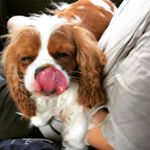puppy: (1, 11, 114, 120)
